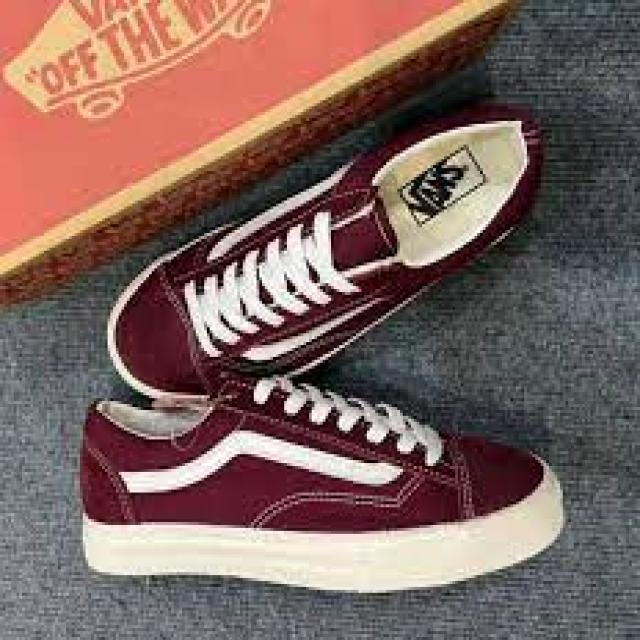shoe: (72, 102, 566, 604), (74, 361, 571, 601)
